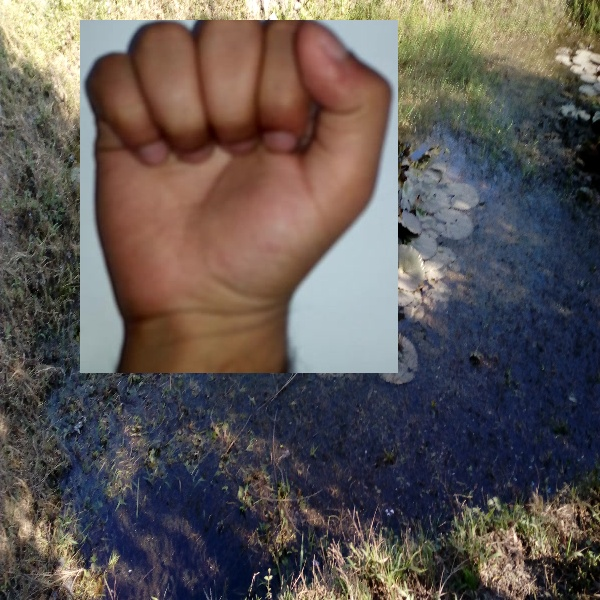A: (80, 20, 398, 373)
